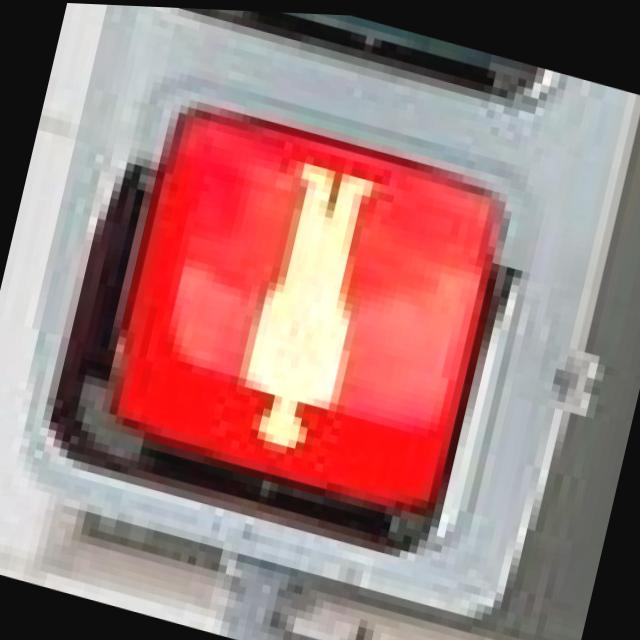red_light: (164, 115, 462, 512)
